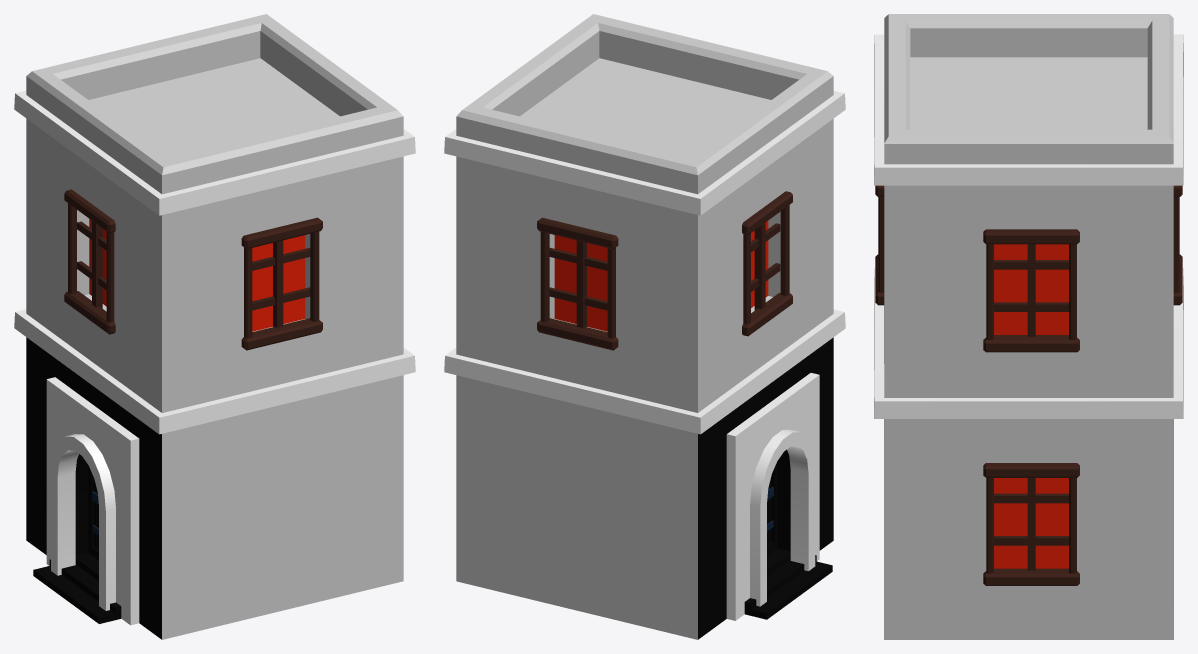
The model's file is civilian_house_35_d.FBX.
3 views of the same model, side by side, from view 1: azimuth 30°, elevation 25°; view 2: azimuth 150°, elevation 25°; view 3: azimuth 270°, elevation 25° (orthographic). The views are drawn at different scales.
Visible parts, largest first — view 1: civilian_house_35_d; view 2: civilian_house_35_d; view 3: civilian_house_35_d.
Boxes of the visible parts, left/top/right/bottom form: civilian_house_35_d: left=14, top=14, right=415, bottom=639; civilian_house_35_d: left=444, top=14, right=845, bottom=639; civilian_house_35_d: left=874, top=14, right=1183, bottom=639.
Bounding box in the file's own units: 536 × 860 × 481.
